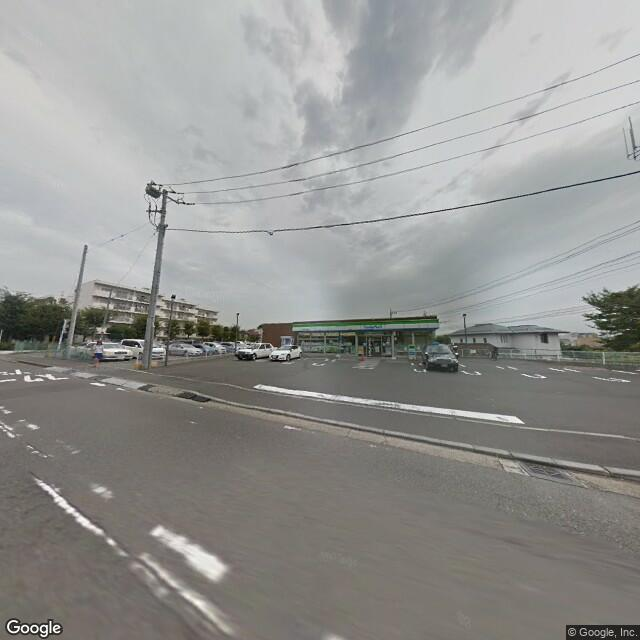family_mart: (292, 316, 441, 333)
